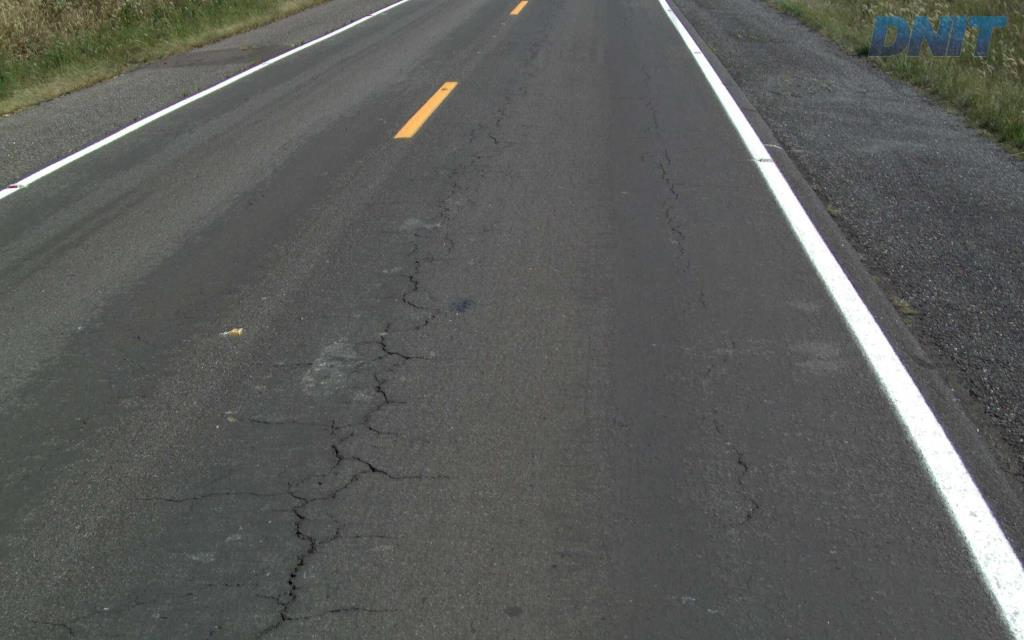crack: (254, 481, 342, 639)
